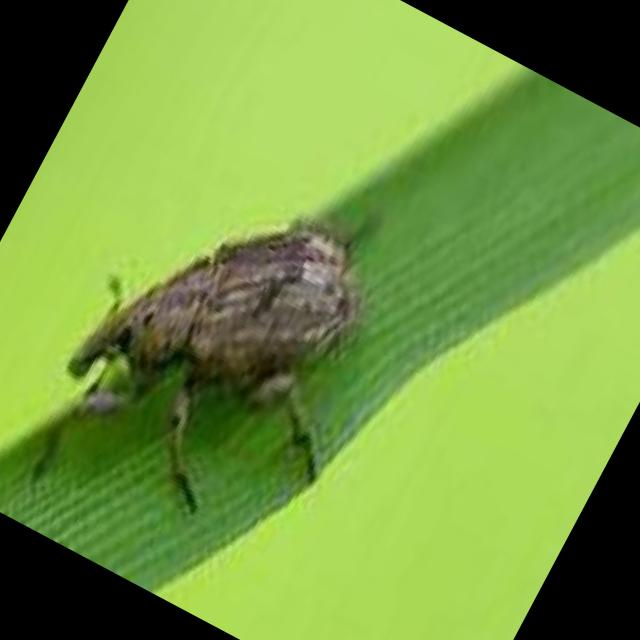rice-bug: (41, 148, 396, 515)
